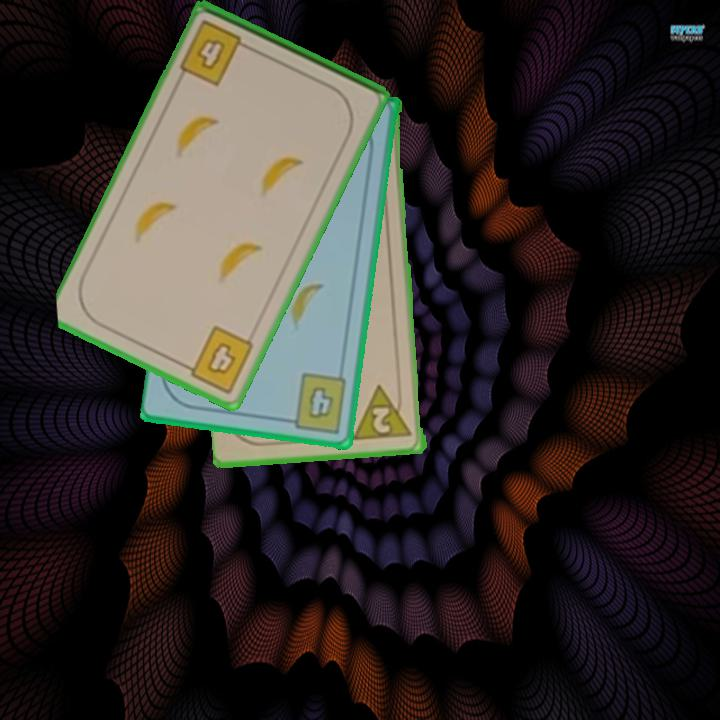2p: (352, 381, 416, 444)
4b: (178, 322, 257, 397), (176, 16, 256, 89), (281, 370, 350, 436)
